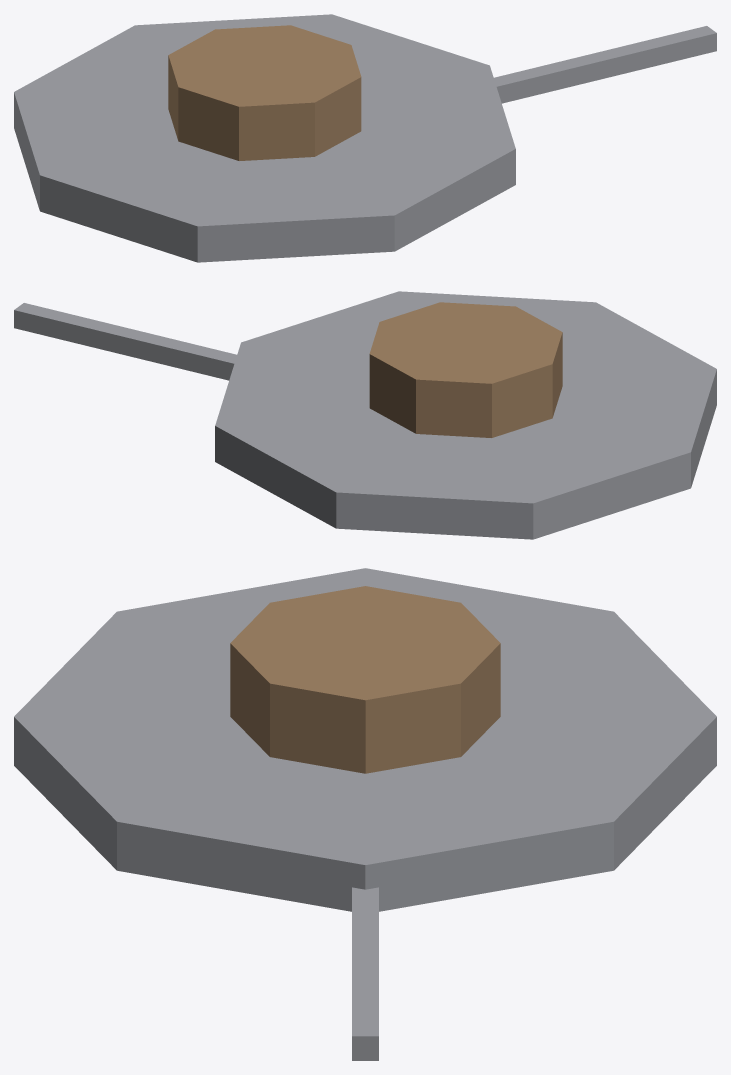
File: prop-lead-came-coil.fbx
3 renders of one model, top to bottom at view 1: azimuth 30°, elevation 25°; view 2: azimuth 150°, elevation 25°; view 3: azimuth 270°, elevation 25°, orthographic. The views are drawn at different scales.
Parts seen in each view (by area): view 1: prop-lead-came-coil; view 2: prop-lead-came-coil; view 3: prop-lead-came-coil.
Part boxes in pixels (<box>): prop-lead-came-coil: <box>14,14,716,262</box>; prop-lead-came-coil: <box>14,291,716,539</box>; prop-lead-came-coil: <box>14,568,716,1060</box>.
Size of the model in its own units: 46.6 by 6 by 31.2.
